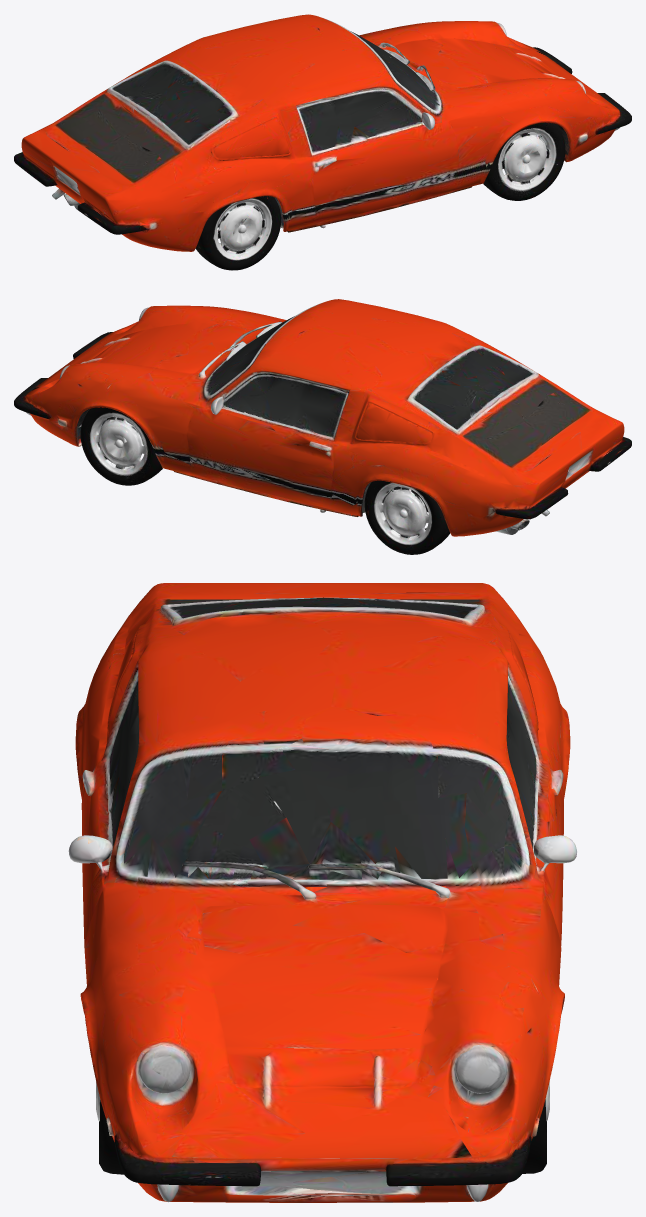
The model's file is car.glb.
The picture shows the model from 3 angles, top to bottom: view 1: azimuth 30°, elevation 25°; view 2: azimuth 150°, elevation 25°; view 3: azimuth 270°, elevation 25°; orthographic projection. The views are drawn at different scales.
Visible parts, largest first — view 1: body, lid, hood; view 2: body, lid, hood; view 3: body, hood, lid.
Boxes of the visible parts, x1=… form: body: x1=14, y1=14, x2=631, y2=270; lid: x1=26, y1=83, x2=202, y2=206; hood: x1=404, y1=21, x2=585, y2=96; body: x1=14, y1=299, x2=631, y2=554; lid: x1=440, y1=366, x2=619, y2=490; hood: x1=60, y1=305, x2=247, y2=380; body: x1=68, y1=583, x2=576, y2=1202; hood: x1=137, y1=922, x2=520, y2=1103; lid: x1=129, y1=583, x2=518, y2=636.
Bounding box in the file's own units: 4.1 × 1.17 × 1.71.
1 material, 1 textured.
